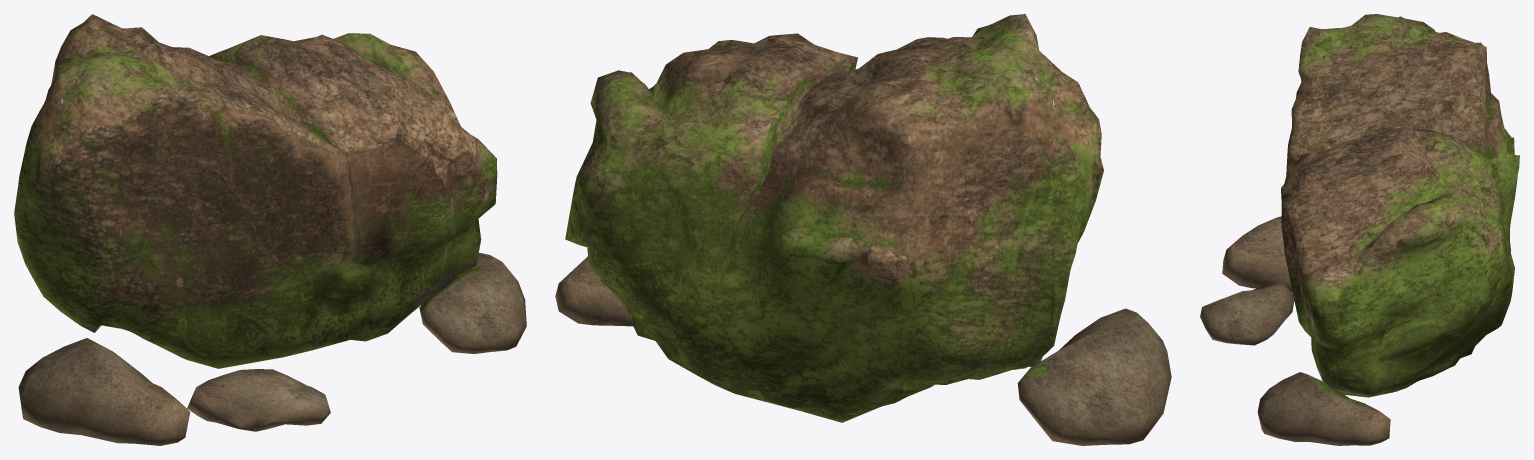
Rendered from mm6_deco_boulder01.glb.
3 views of the same model, side by side, from view 1: azimuth 30°, elevation 25°; view 2: azimuth 150°, elevation 25°; view 3: azimuth 270°, elevation 25° (orthographic). The views are drawn at different scales.
Parts seen in each view (by area): view 1: Boulder01; view 2: Boulder01; view 3: Boulder01.
Part boxes in pixels (left/top/right/bottom): Boulder01: left=14, top=14, right=526, bottom=445; Boulder01: left=555, top=14, right=1171, bottom=445; Boulder01: left=1200, top=14, right=1519, bottom=445.
Bounding box in the file's own units: 1.4 × 0.8657 × 0.9181.
Materials: 1 (1 with a texture image).
